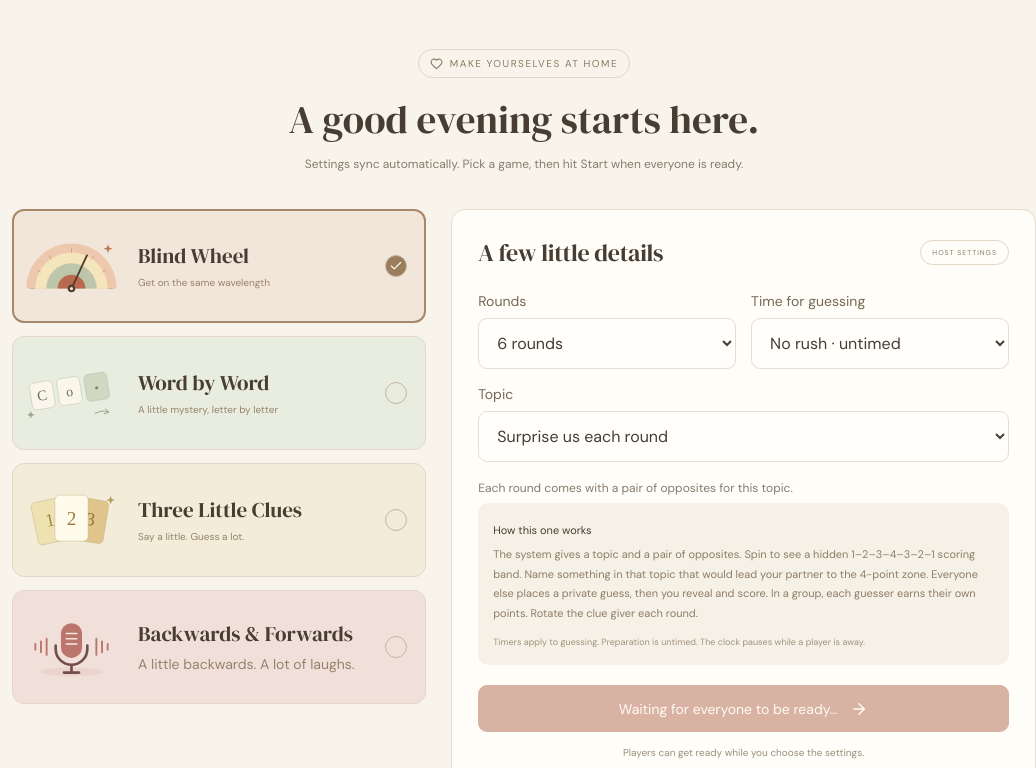
Test: cozy home and game forms › offers wheel topics and no topic or mood picker for word chains
This screenshot has width=1036, height=768.
Expected: the dropdown labelled "Topic" is shown, [478,411,1009,462]
Click the button "C o Word by Word A little mystery, letter by letter" at (219,393), box [12,336,426,450]
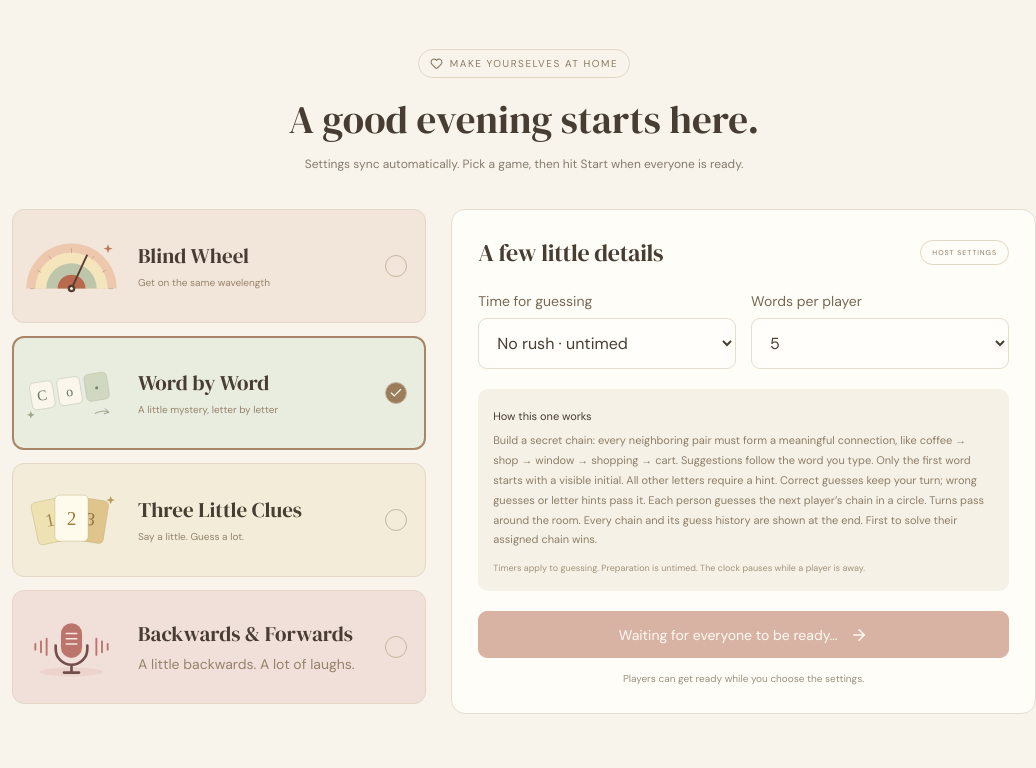
Expected: the dropdown labelled "Words per player" is shown, [751,318,1009,369]
Expected: the text labelled "Topic" is gone
